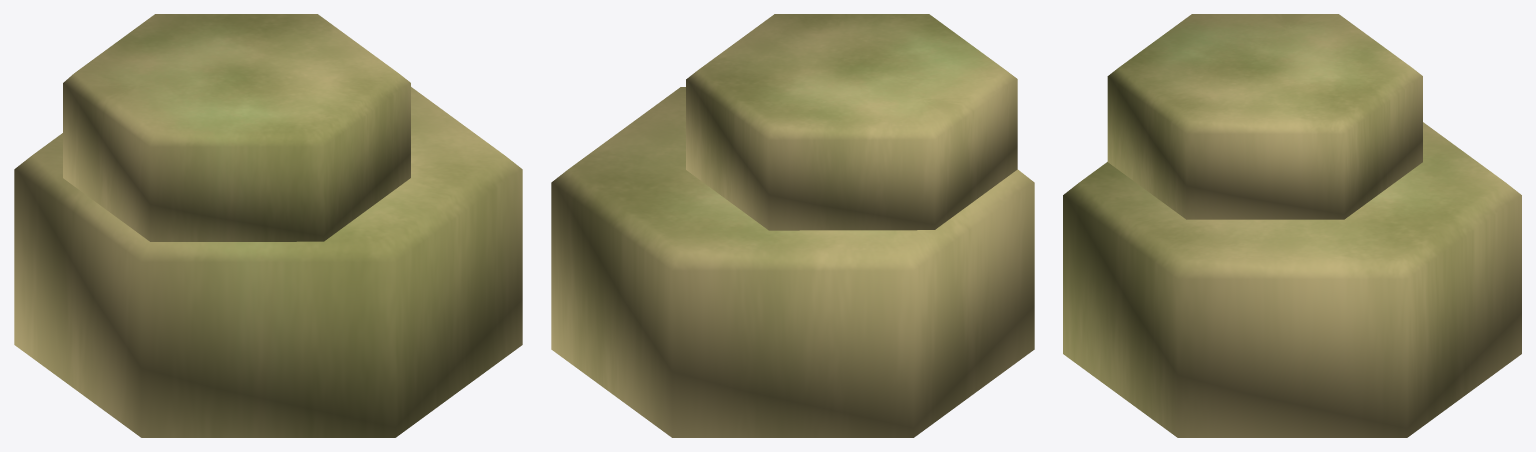
Rendered from Roca1+3.FBX.
3 views of the same model, side by side, from view 1: azimuth 30°, elevation 25°; view 2: azimuth 150°, elevation 25°; view 3: azimuth 270°, elevation 25° (orthographic). The views are drawn at different scales.
Parts seen in each view (by area): view 1: roca1, Cylinder002; view 2: roca1, Cylinder002; view 3: roca1, Cylinder002.
Boxes of the visible parts, x1=… form: roca1: x1=14, y1=87, x2=522, y2=437; Cylinder002: x1=63, y1=14, x2=410, y2=241; roca1: x1=551, y1=87, x2=1034, y2=437; Cylinder002: x1=686, y1=14, x2=1017, y2=230; roca1: x1=1063, y1=122, x2=1521, y2=437; Cylinder002: x1=1107, y1=14, x2=1422, y2=219.
Size of the model in its own units: 34.09 by 25.13 by 39.37.
